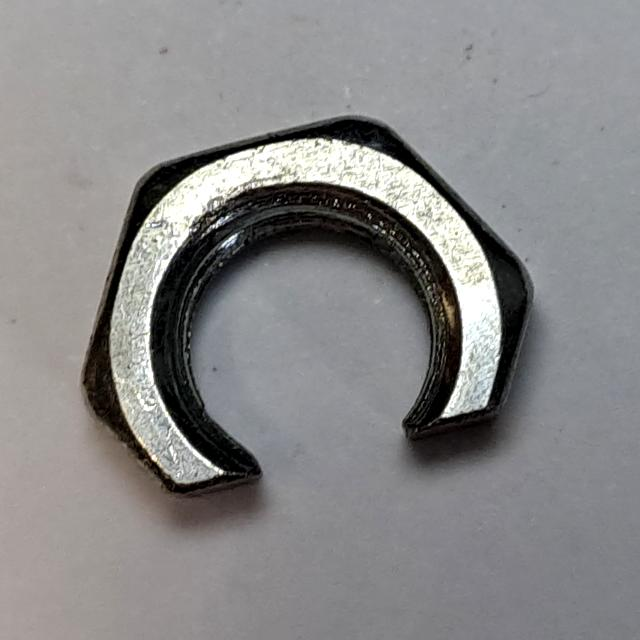Fracture: (64, 104, 545, 517)
